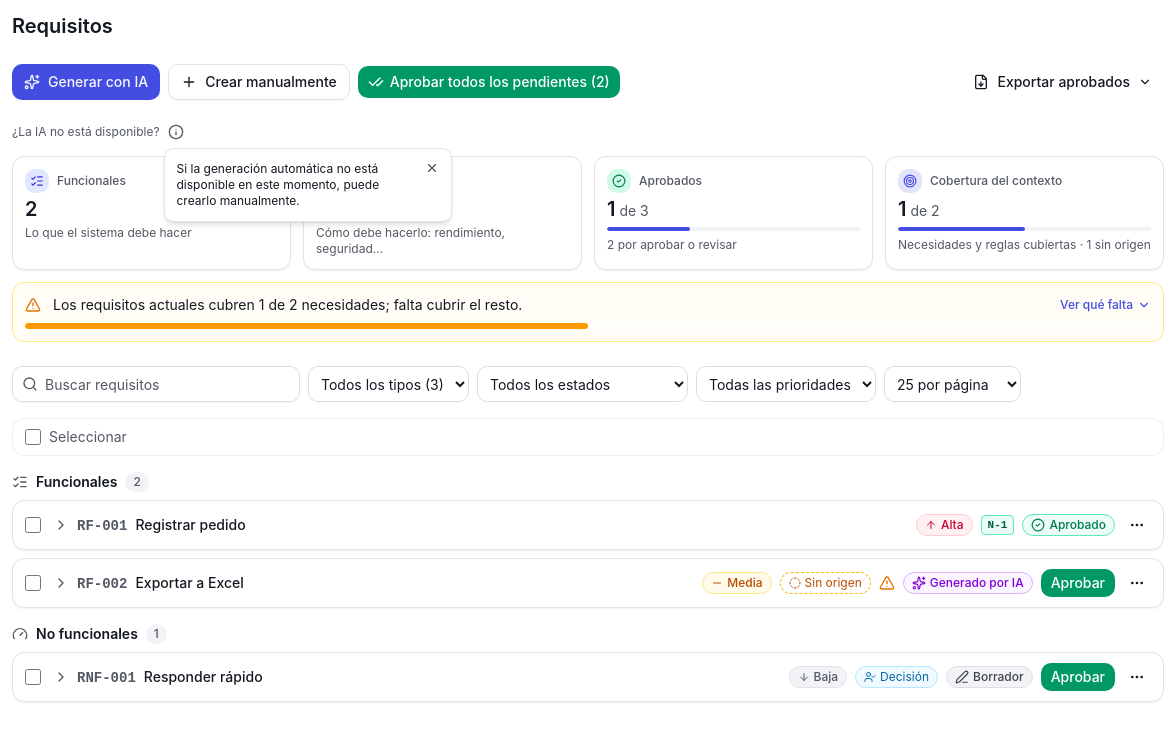
Test: Requirements list › groups the rows by type and narrows them by search and filters
Check: the element "No funcionales" shows "RNF-001", box [53,666,776,688]
Type "excel" into the search field labelled "Buscar requisitos" at coordinates (156, 384), box [12,366,300,402]
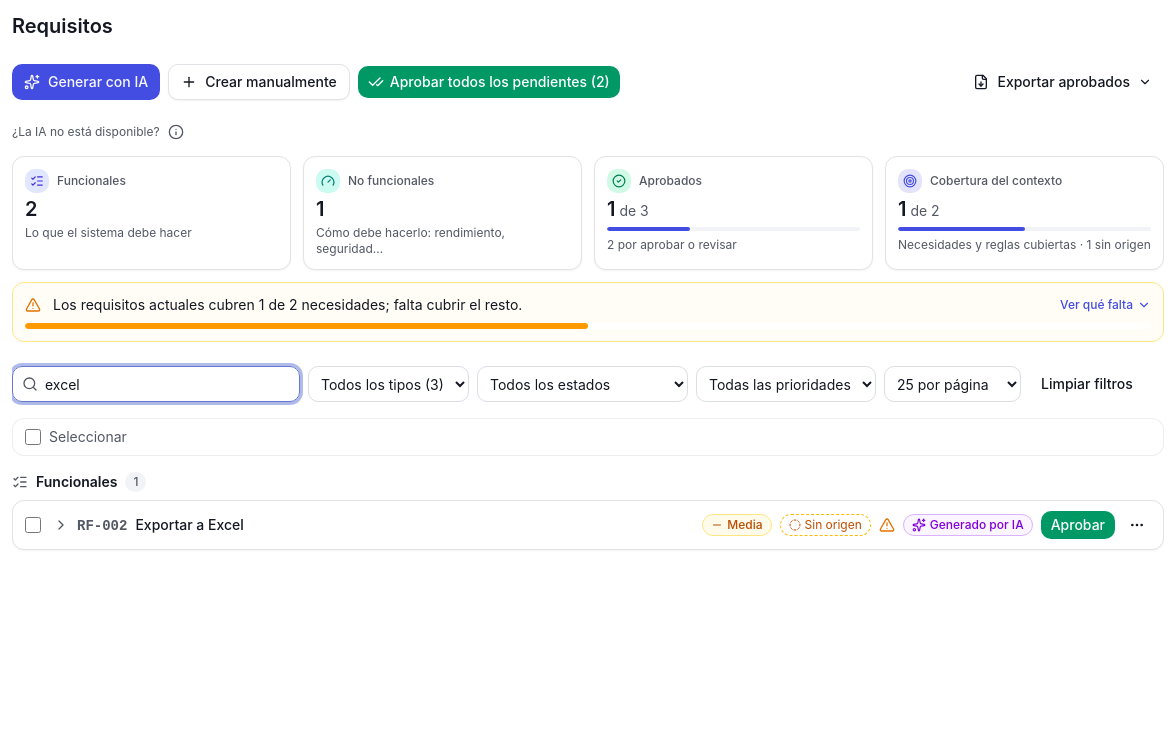
Check: the text "Exportar a Excel" is shown, box [135,514,244,534]
Check: the button "Registrar pedido" is gone
Click the button "Limpiar filtros" at coordinates (1087, 384), box [1029,368,1145,400]
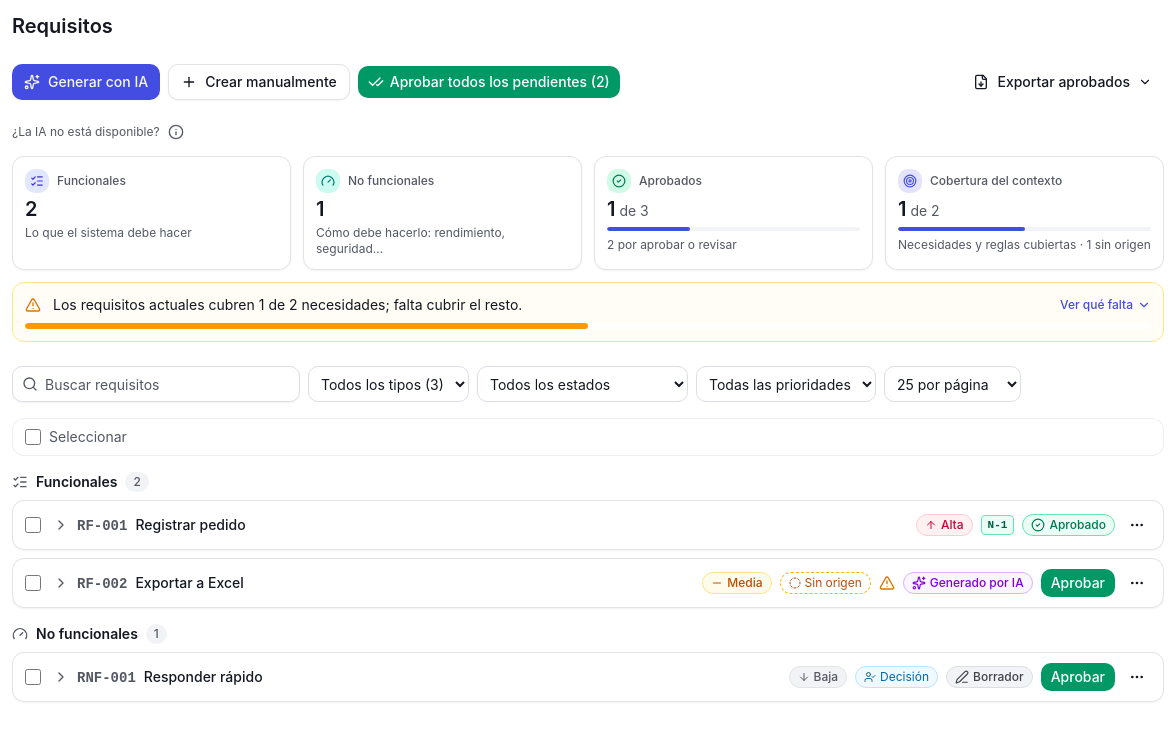
Select "Aprobados" in the dropdown named "Estado" at coordinates (582, 384), box [477,366,688,402]
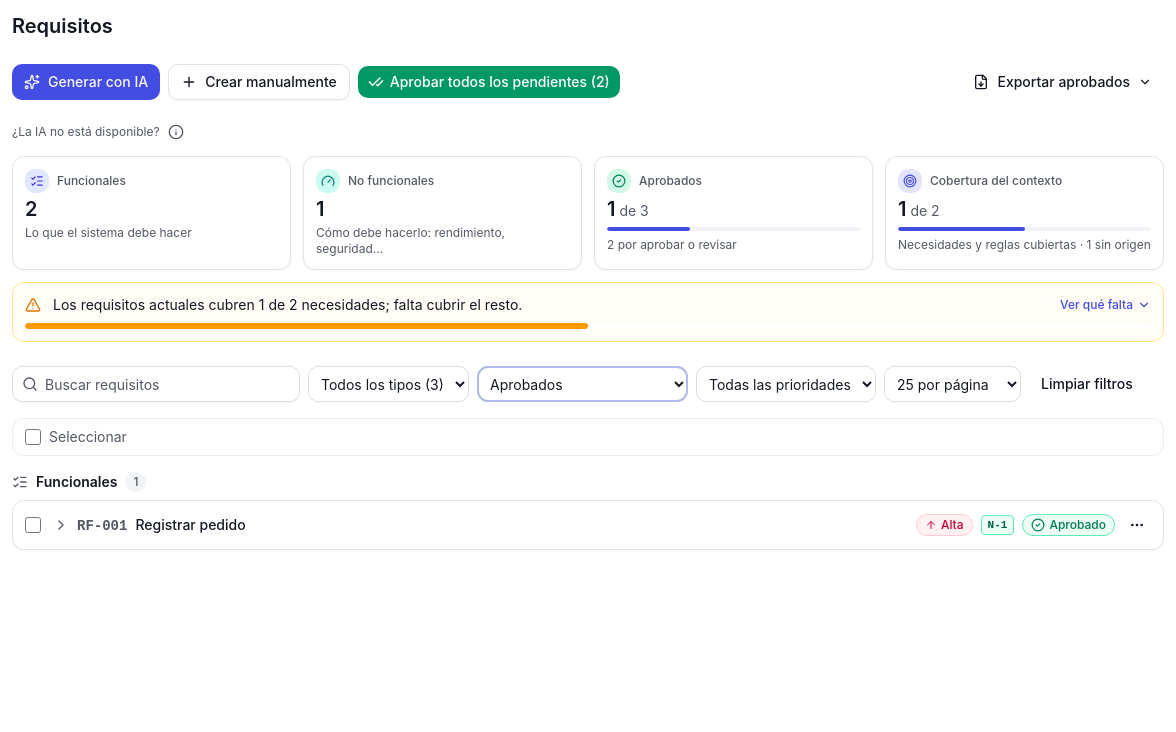
Check: the text "Registrar pedido" is shown, box [135,514,246,534]
Check: the button "Exportar a Excel" is gone
